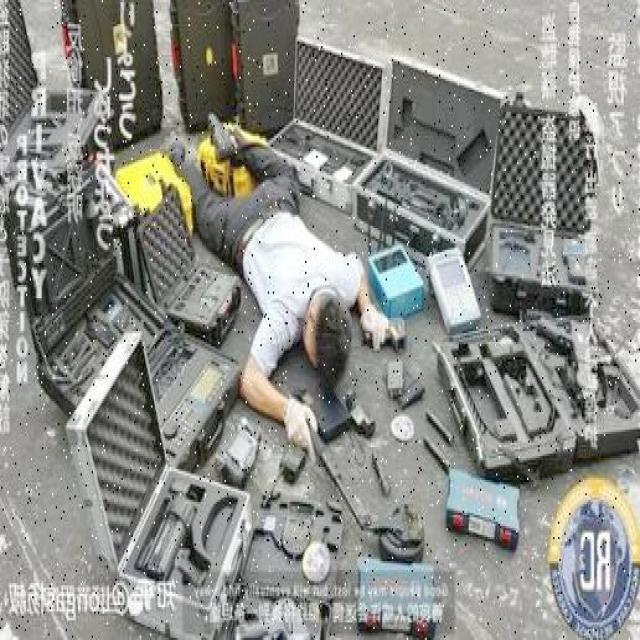fall: (182, 123, 362, 430)
